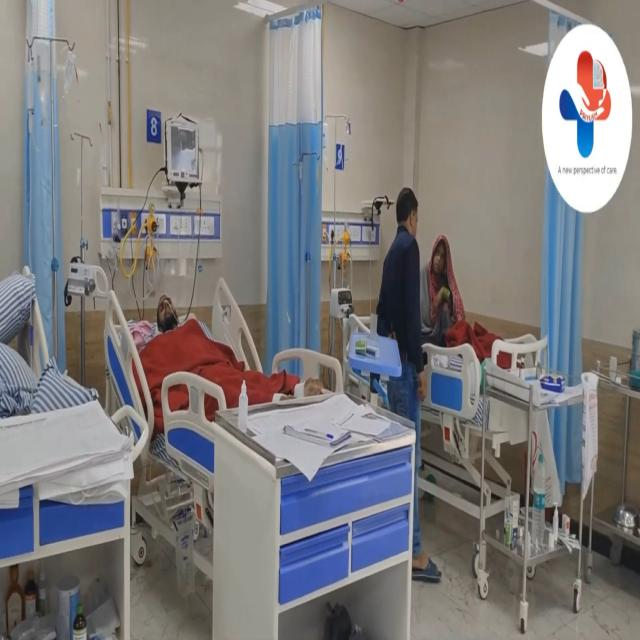Family-Member: (381, 178, 433, 483)
Patient: (425, 218, 532, 386), (140, 274, 217, 382)
